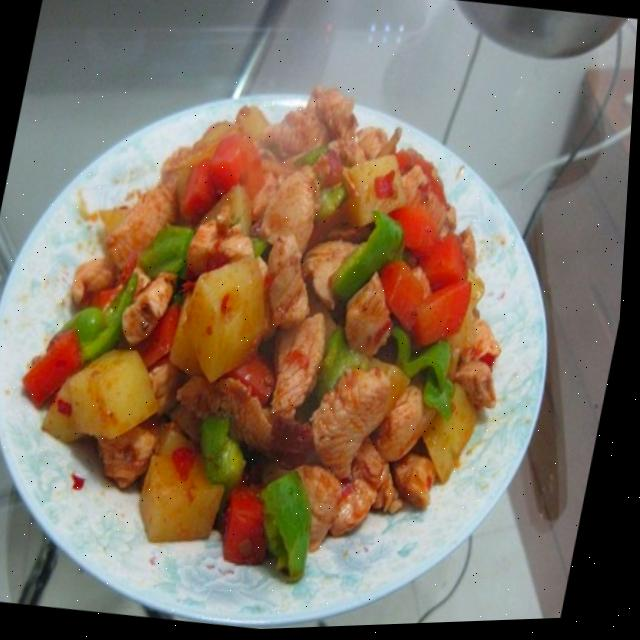鸡肉料理 含炸鸡: (0, 41, 575, 640)
